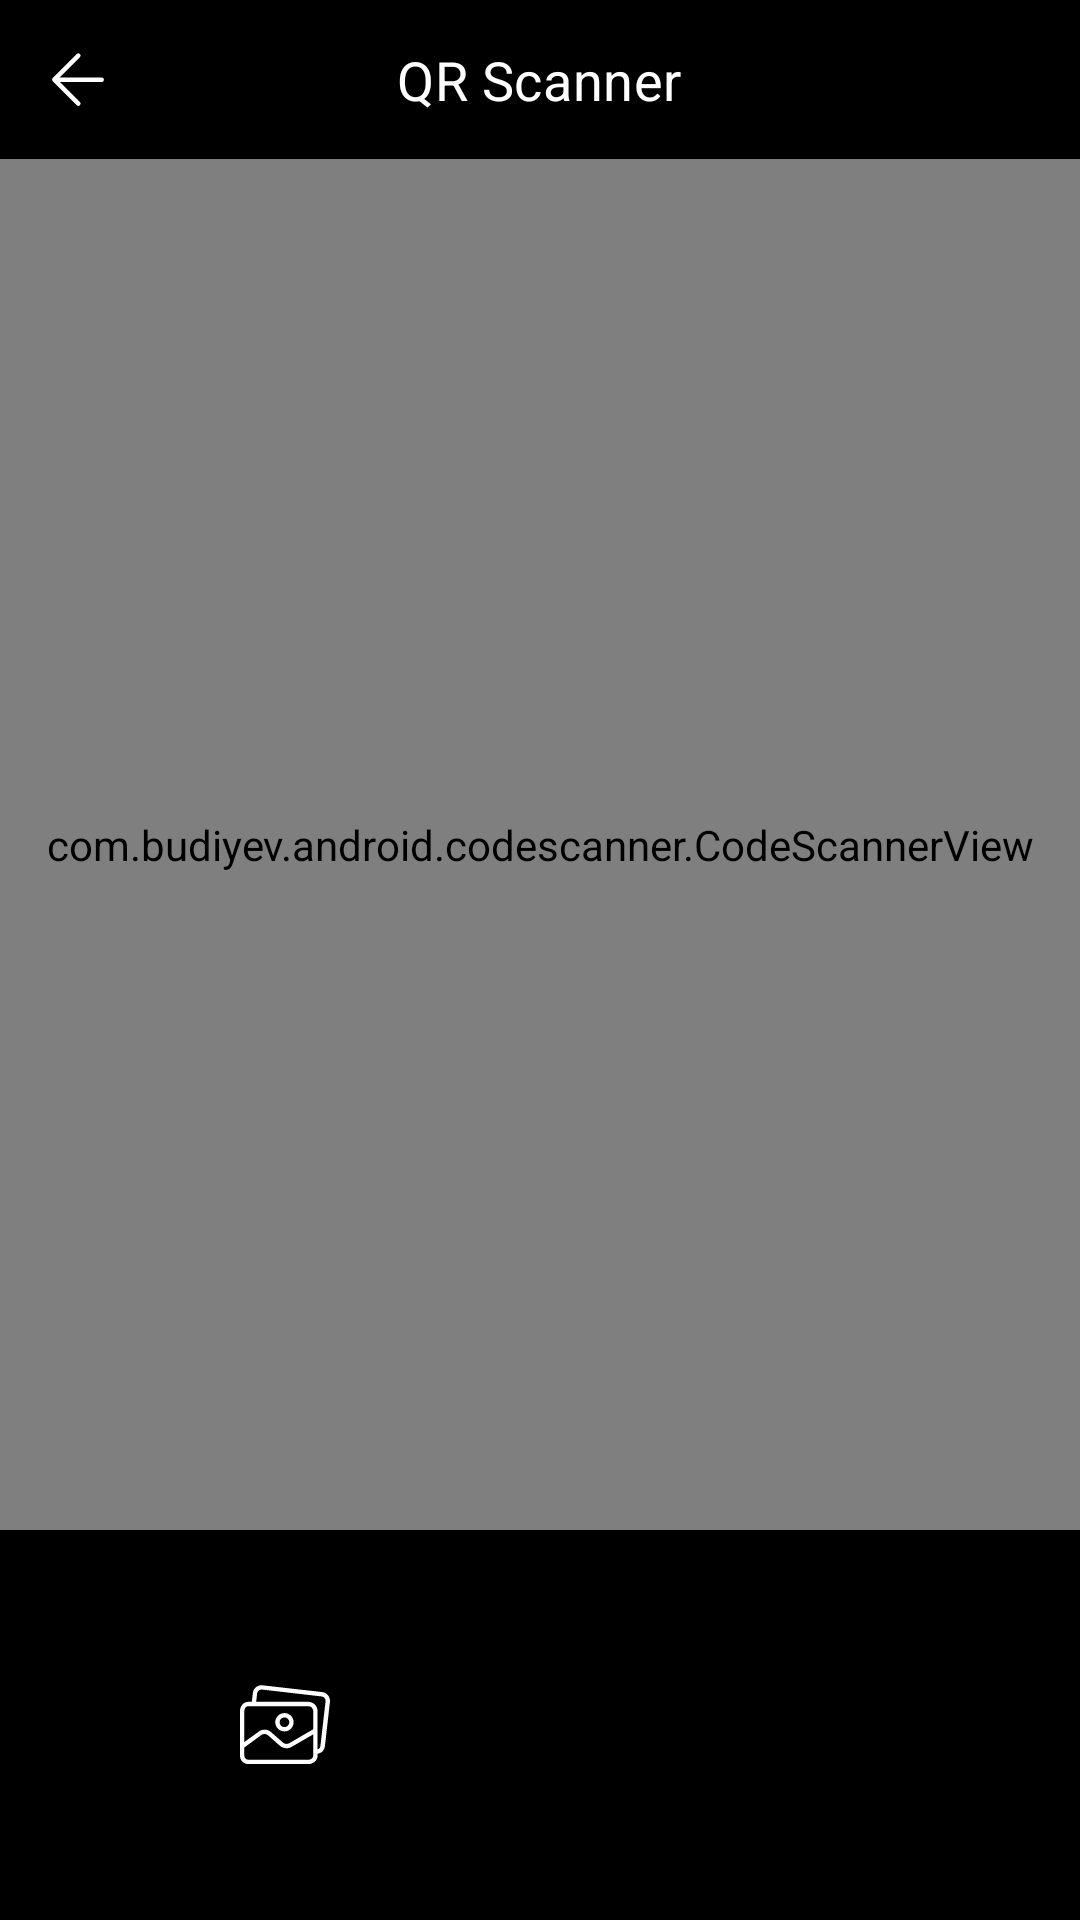

Where icons sit on this 1080px x 1920px app screen, as (x1, y1, x2, y2):
arrow back: (52, 53, 104, 106)
gallery: (240, 1685, 330, 1764)
